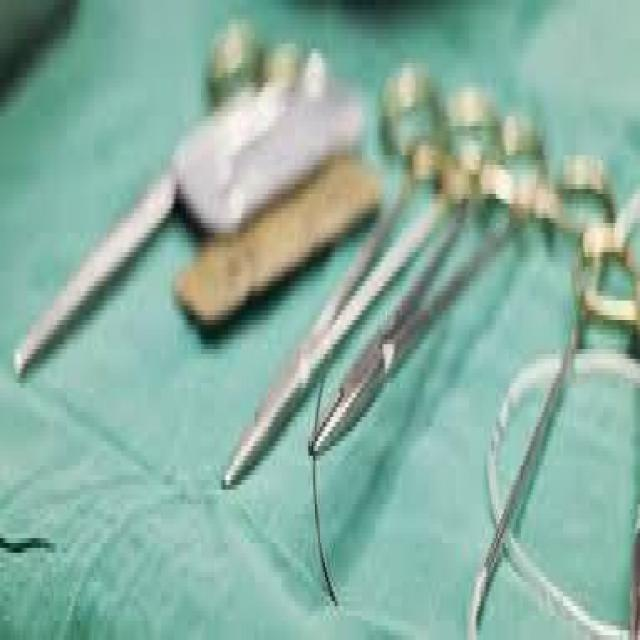Needle: (310, 339, 342, 606)
